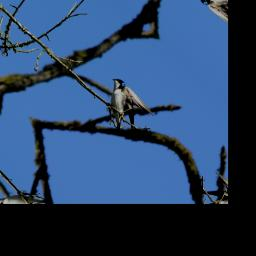Swallow: (86, 74, 159, 142)
